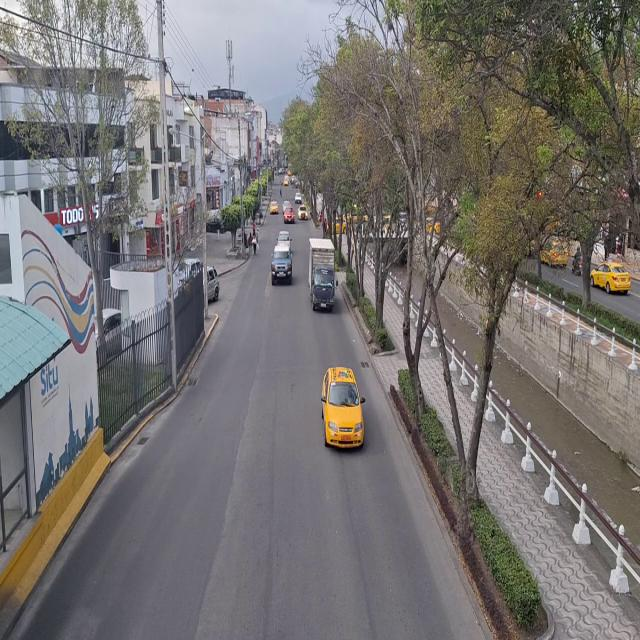SED: (324, 370, 364, 449)
SUV: (272, 244, 292, 286)
TRUCK: (306, 235, 334, 310)
